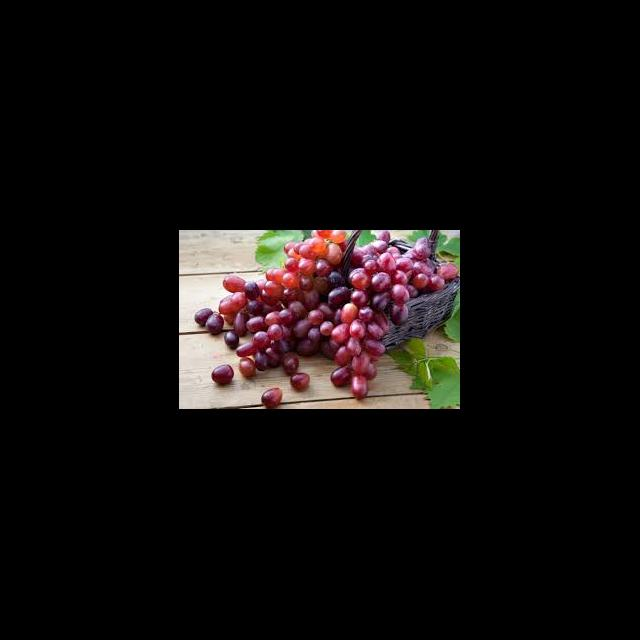grape: (194, 230, 458, 402)
